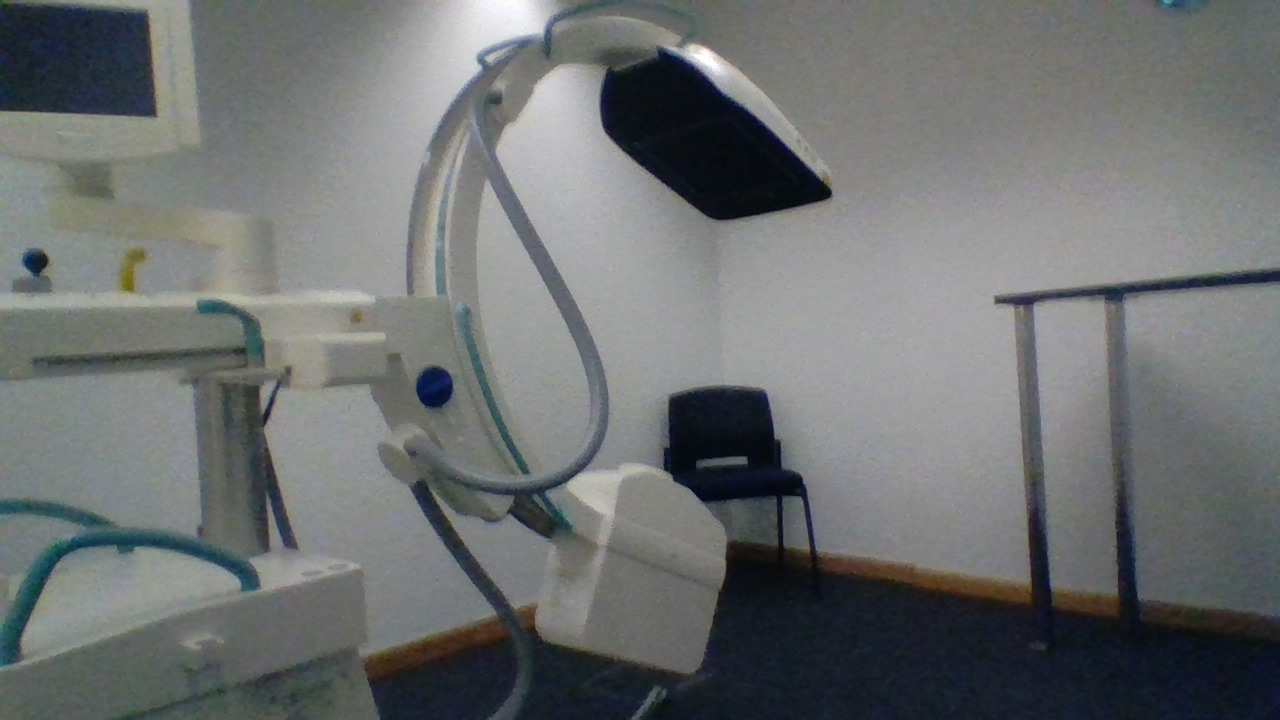carmDOWN: (558, 460, 729, 557)
carmLOCK: (414, 365, 455, 409)
carmUP: (599, 37, 837, 223)
